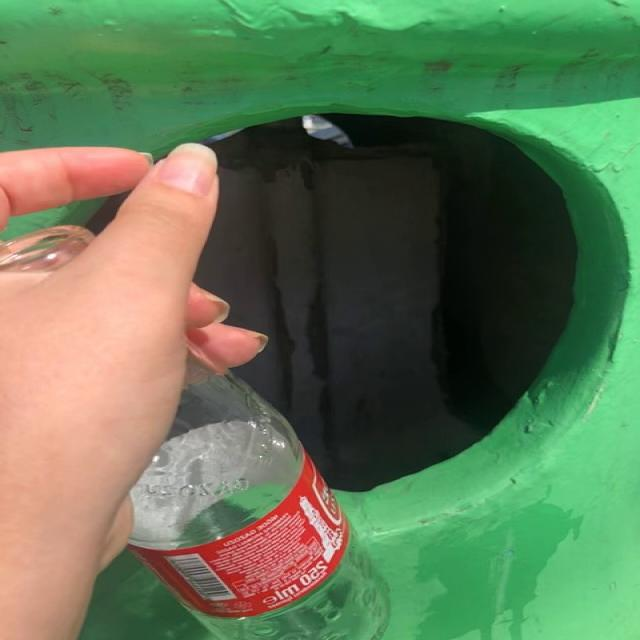glass: (128, 357, 388, 640), (0, 226, 100, 278)
